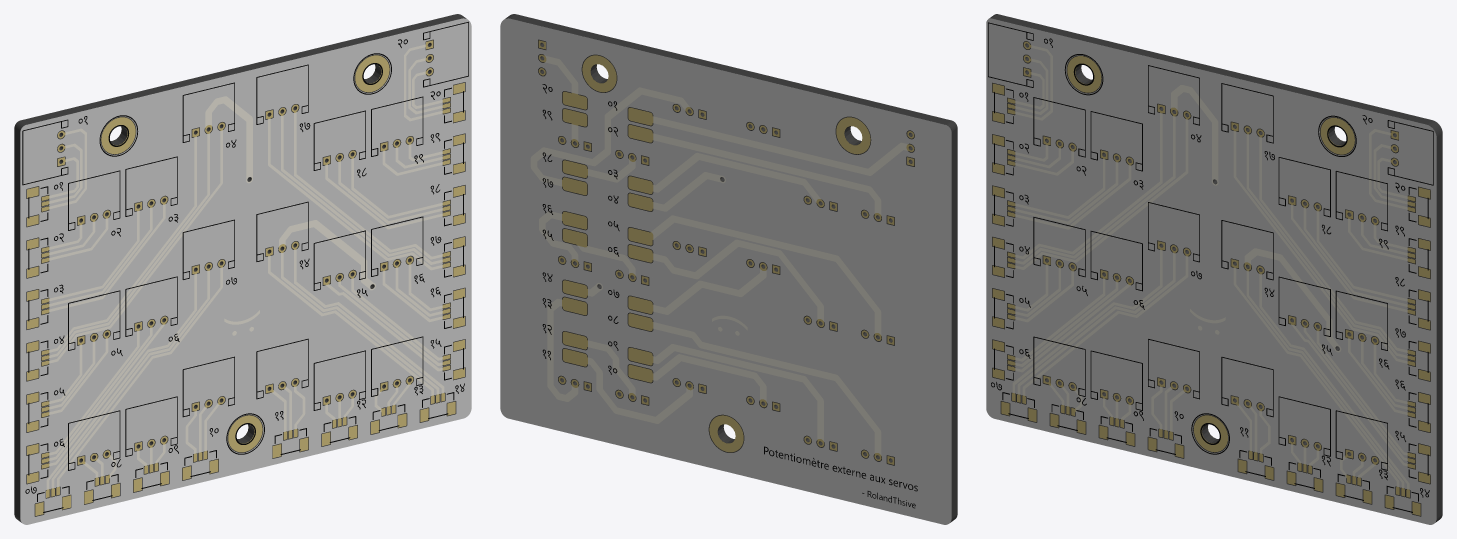
File: foot_pcb_connectors v9 (White and Black).glb
3 renders of one model, left to right at view 1: azimuth 30°, elevation 25°; view 2: azimuth 150°, elevation 25°; view 3: azimuth 330°, elevation 25°, orthographic.
Visible parts, largest first — view 1: Shape_4, Shape, Shape_2, Shape_8, Shape_1, Shape_3; view 2: Shape_7, Shape, Shape_5, Shape_1, Shape_6, Shape_9; view 3: Shape_4, Shape, Shape_2, Shape_8, Shape_1, Shape_3.
Boxes of the visible parts, box(x1,y1,x2,y2) form: Shape_4: box(20, 18, 471, 524); Shape: box(20, 18, 470, 524); Shape_2: box(46, 40, 444, 503); Shape_8: box(22, 21, 468, 512); Shape_1: box(14, 14, 466, 522); Shape_3: box(27, 82, 464, 515); Shape_7: box(500, 18, 951, 524); Shape: box(501, 18, 951, 524); Shape_5: box(531, 40, 914, 464); Shape_1: box(505, 14, 957, 522); Shape_6: box(562, 91, 652, 382); Shape_9: box(542, 84, 917, 508); Shape_4: box(986, 18, 1436, 524); Shape: box(987, 18, 1436, 524); Shape_2: box(1012, 41, 1409, 490); Shape_8: box(988, 22, 1433, 512); Shape_1: box(989, 14, 1442, 522); Shape_3: box(992, 83, 1430, 515).
Bounding box in the file's own units: 70 × 59.35 × 1.75.
